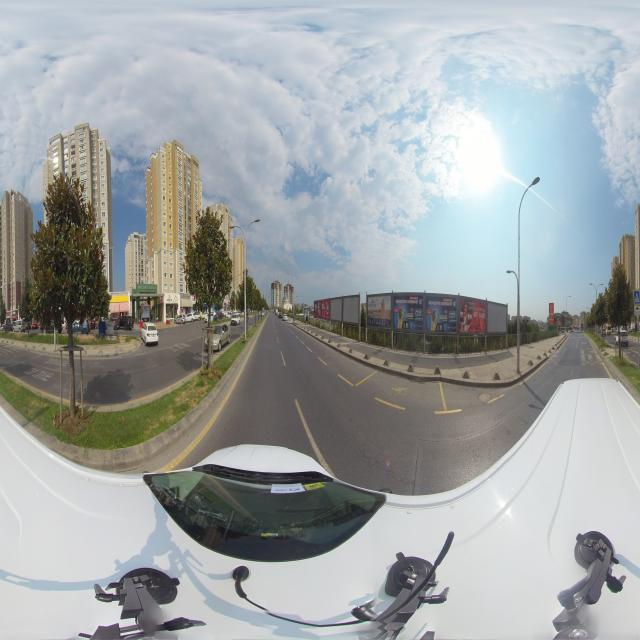SignStore: (166, 294, 178, 303), (181, 294, 191, 299), (12, 310, 18, 316), (6, 311, 11, 316)
